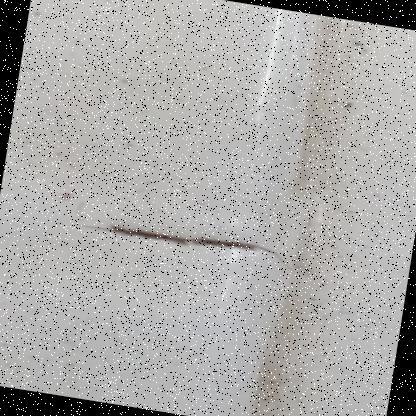Crack: (21, 181, 380, 328)
